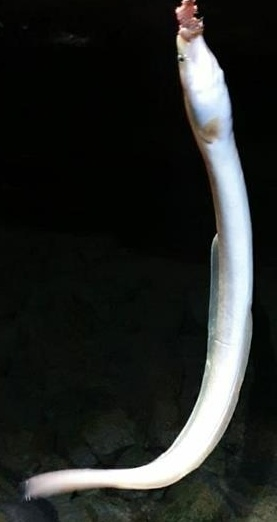Anguilla anguilla: (20, 20, 257, 502)
